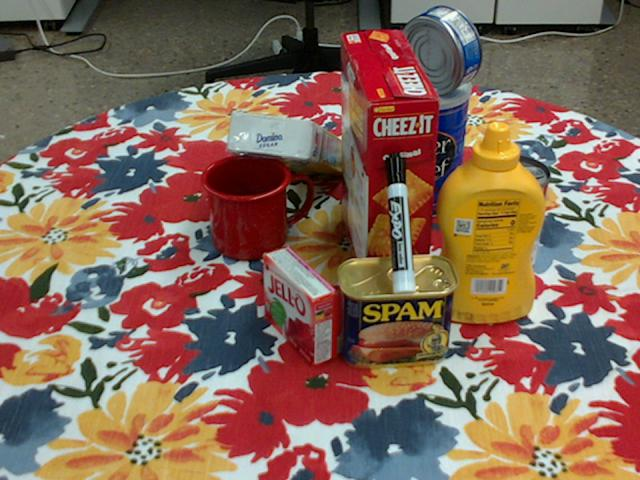cracker_box: (340, 32, 439, 304)
gelatin_box: (264, 244, 339, 365)
large_marker: (383, 151, 416, 293)
master_chef_can: (372, 65, 470, 220)
mug: (202, 153, 315, 260)
mustard_bottle: (431, 121, 545, 324)
potted_meat_can: (339, 254, 460, 369)
sugar_box: (228, 112, 351, 177)
tomato_soup_can: (473, 155, 550, 274)
tuna_fish_can: (397, 6, 481, 94)
